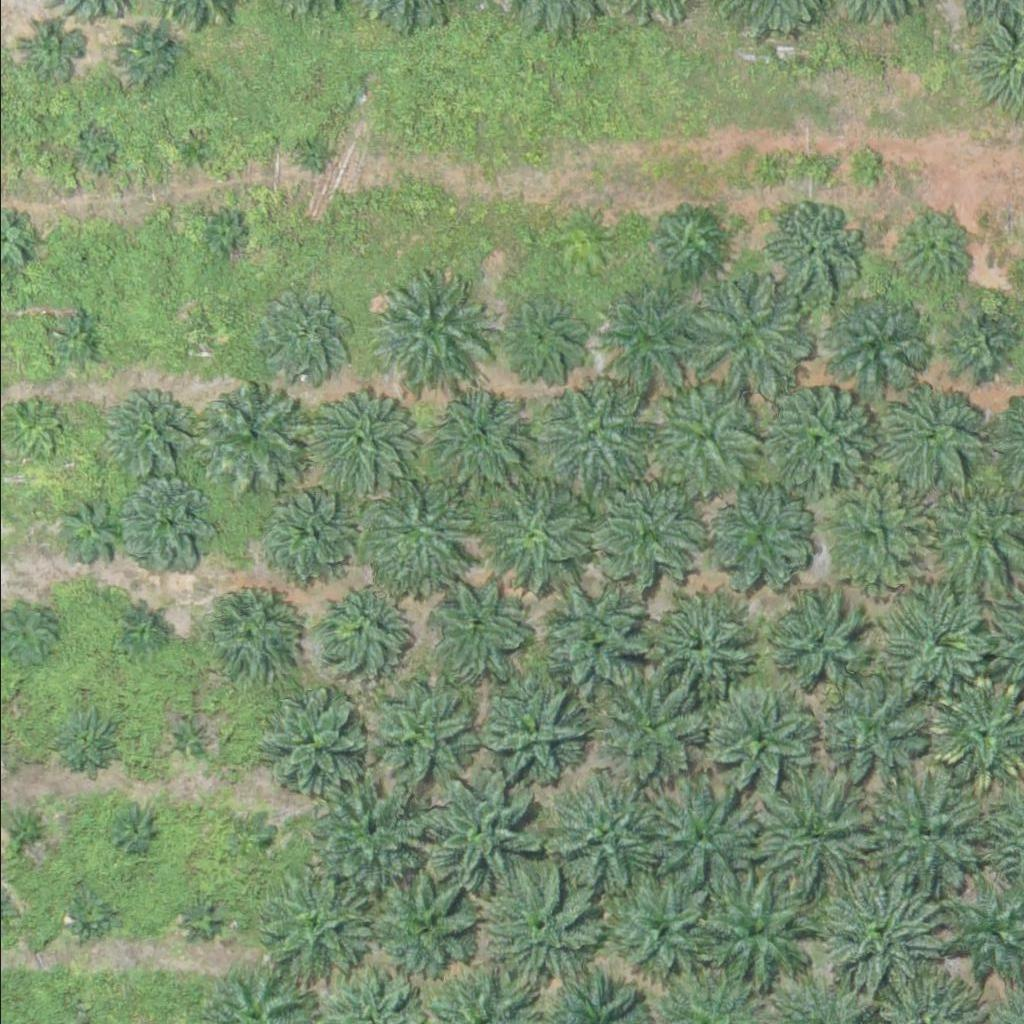Kelapa_Sawit: (816, 864, 942, 989), (861, 770, 987, 895), (746, 760, 872, 885), (687, 270, 813, 395), (367, 263, 493, 388), (353, 673, 479, 798), (638, 776, 764, 901), (544, 774, 670, 899), (409, 769, 535, 894), (294, 769, 420, 894), (699, 866, 825, 991), (600, 870, 726, 995), (479, 866, 605, 991), (366, 856, 492, 981), (353, 475, 478, 600), (818, 473, 931, 586), (757, 385, 870, 498), (873, 375, 986, 488), (707, 483, 820, 596), (637, 591, 750, 704), (197, 374, 310, 487), (592, 478, 705, 591), (479, 478, 592, 591), (541, 576, 654, 689), (251, 690, 364, 803), (589, 670, 703, 782), (812, 677, 925, 789), (759, 584, 872, 696), (883, 584, 996, 696), (703, 685, 816, 797), (641, 383, 754, 495), (590, 284, 703, 396), (534, 379, 647, 491), (301, 381, 414, 493), (477, 672, 590, 784), (251, 869, 364, 981), (820, 295, 921, 395), (253, 284, 354, 384), (425, 387, 526, 487), (253, 485, 354, 585), (425, 575, 526, 675), (308, 577, 409, 677), (195, 575, 296, 675), (118, 480, 219, 580), (758, 199, 858, 299), (884, 206, 972, 294), (501, 296, 589, 383), (98, 393, 186, 480), (648, 205, 724, 280), (942, 307, 1017, 382), (18, 15, 81, 78), (116, 25, 179, 88), (43, 308, 106, 371), (52, 710, 115, 772), (61, 501, 124, 563), (3, 807, 54, 857), (113, 805, 163, 855), (176, 894, 226, 944), (65, 890, 115, 940), (161, 710, 211, 760), (230, 813, 280, 863), (77, 130, 115, 168), (175, 134, 213, 172), (294, 135, 332, 173), (843, 149, 881, 186), (120, 612, 157, 650), (182, 320, 219, 358), (201, 216, 239, 253), (64, 247, 89, 272)
